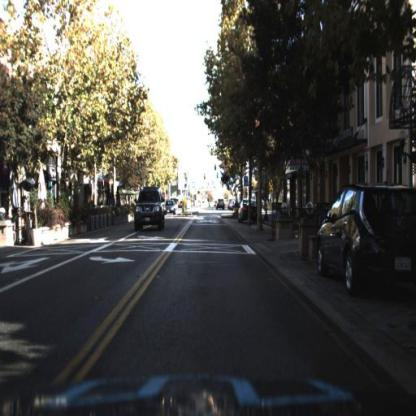car: (313, 180, 416, 298), (133, 187, 165, 238), (132, 185, 165, 234), (239, 199, 259, 225)
